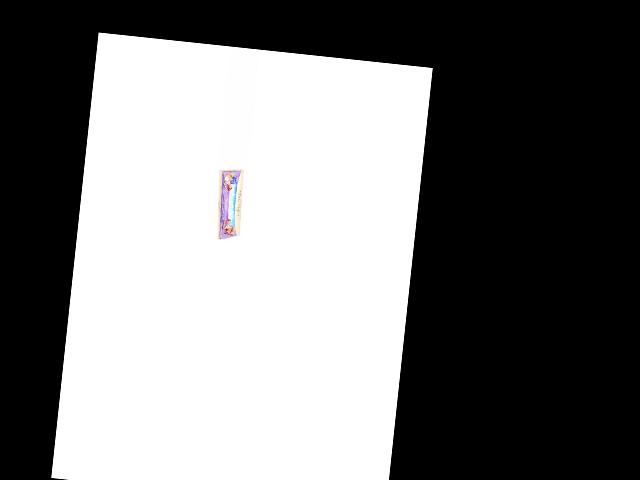chocolate: (211, 167, 243, 244)
